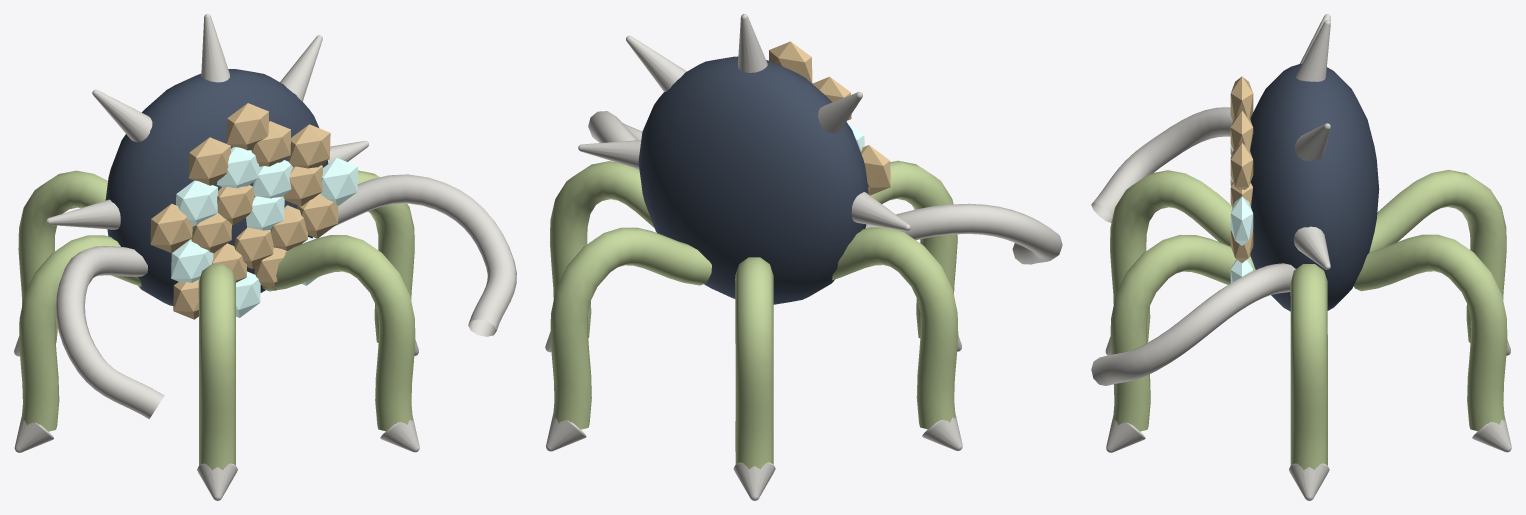
Rendered from bio_crown_stalker_06_near.glb.
3 renders of one model, left to right at view 1: azimuth 30°, elevation 25°; view 2: azimuth 150°, elevation 25°; view 3: azimuth 270°, elevation 25°, orthographic. The views are drawn at different scales.
Visible parts, largest first — view 1: Compound lens facet.001, Faceted crown substrate, Crooked support.004, Compound lens facet, Scythe sensory limb.001, Crooked support.003, Scythe sensory limb, Crooked support.002, Crown radiating blade, Crooked support.001, Crooked support.005, Contact spur.003 (+2 smaller); view 2: Faceted crown substrate, Crooked support, Crooked support.002, Crooked support.001, Crown radiating blade, Crooked support.005, Scythe sensory limb, Crooked support.003, Compound lens facet.001, Scythe sensory limb.001, Contact spur.001, Contact spur (+1 smaller); view 3: Faceted crown substrate, Crooked support, Crooked support.004, Crooked support.005, Crooked support.001, Crooked support.003, Scythe sensory limb.001, Scythe sensory limb, Crown radiating blade, Compound lens facet.001, Compound lens facet, Contact spur.005 (+2 smaller).
Boxes of the visible parts, x1,y1,x2,y2 form: Compound lens facet.001: (150,103,338,319); Faceted crown substrate: (105,69,328,305); Crooked support.004: (261,235,415,431); Compound lens facet: (171,147,357,317); Scythe sensory limb.001: (334,174,516,336); Crooked support.003: (198,264,235,469); Scythe sensory limb: (55,246,164,419); Crooked support.002: (19,235,141,431); Crown radiating blade: (46,14,368,229); Crooked support.001: (18,170,107,342); Crooked support.005: (357,170,414,342); Contact spur.003: (197,463,237,500); Faceted crown substrate: (638,56,868,304); Crooked support: (550,227,711,429); Crooked support.002: (832,227,958,429); Crooked support.001: (735,257,773,469); Crown radiating blade: (578,14,910,230); Crooked support.005: (549,161,654,337); Scythe sensory limb: (865,203,1062,264); Crooked support.003: (870,160,957,338); Compound lens facet.001: (767,41,890,195); Scythe sensory limb.001: (588,111,642,170); Contact spur.001: (733,462,775,500); Contact spur: (546,414,586,451); Faceted crown substrate: (1250,64,1379,311); Crooked support: (1353,234,1507,431); Crooked support.004: (1110,234,1255,431); Crooked support.005: (1290,264,1327,470); Crooked support.001: (1369,170,1506,342); Crooked support.003: (1110,170,1232,342); Scythe sensory limb.001: (1091,263,1295,385); Scythe sensory limb: (1091,107,1232,222); Crown radiating blade: (1293,14,1330,269); Compound lens facet.001: (1230,76,1253,262); Compound lens facet: (1230,119,1253,282); Contact spur.005: (1289,463,1329,500).
Size of the model in its own units: 2.58 by 2.16 by 2.15.
